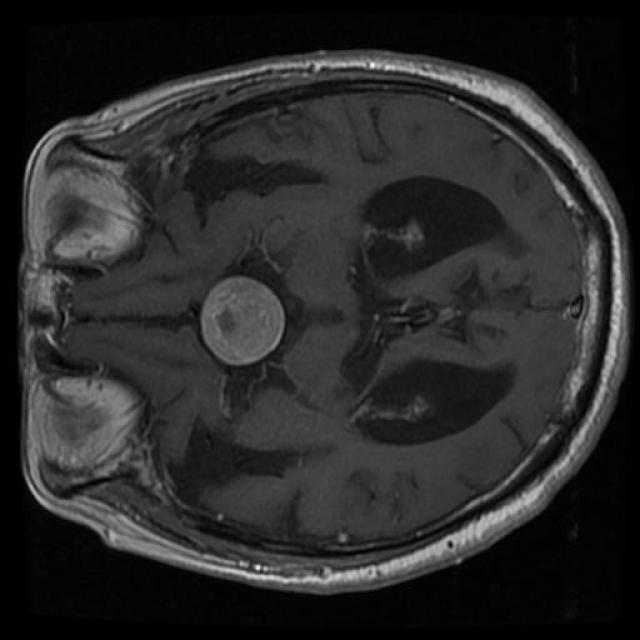Pituitary: (201, 276, 285, 366)
